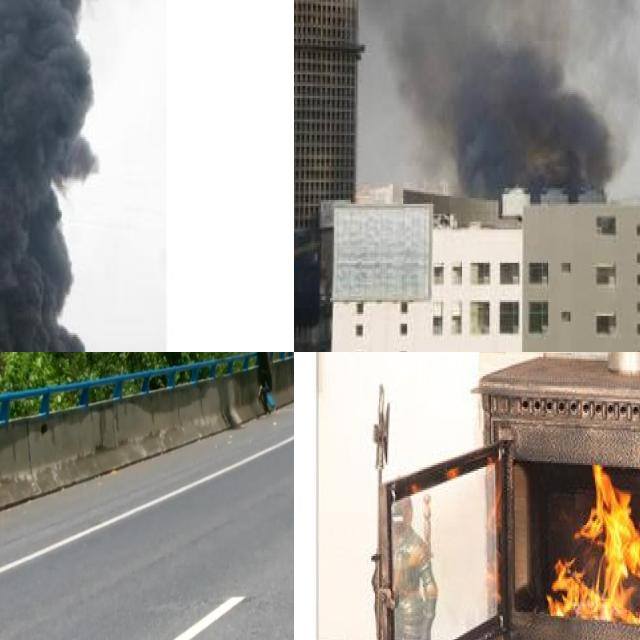fire: (547, 457, 640, 621)
smoke: (338, 0, 640, 198), (0, 0, 105, 352)
